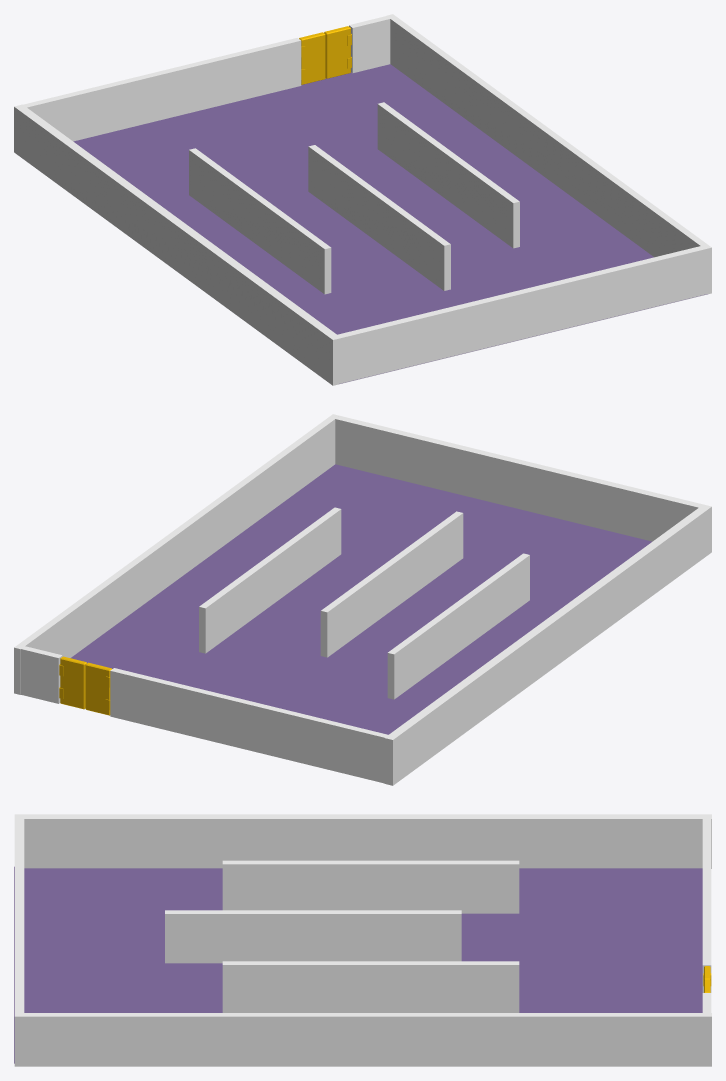
The model's file is maps_71.fbx.
3 views of the same model, one above another, from view 1: azimuth 30°, elevation 25°; view 2: azimuth 150°, elevation 25°; view 3: azimuth 270°, elevation 25° (orthographic). The views are drawn at different scales.
Visible parts, largest first — view 1: wall_01_08_geo, wall_01_05_geo, wall_01_07_geo, wall_01_06_geo, wall_01_09_geo, wall_01_11_geo21, wall_01_11_geo23, wall_01_11_geo22, wall_01_09_geo1, polySurface161, polySurface165; view 2: wall_01_08_geo, wall_01_07_geo, wall_01_05_geo, wall_01_06_geo, wall_01_09_geo, wall_01_11_geo22, wall_01_11_geo21, wall_01_11_geo23, wall_01_09_geo1, polySurface161, polySurface165; view 3: wall_01_08_geo, wall_01_06_geo, wall_01_07_geo, wall_01_11_geo22, wall_01_11_geo23, wall_01_11_geo21, wall_01_05_geo, wall_01_09_geo.
Boxes of the visible parts, x1,y1,x2,y2 form: wall_01_08_geo: (73, 64, 707, 383); wall_01_05_geo: (337, 246, 705, 383); wall_01_07_geo: (14, 104, 341, 385); wall_01_06_geo: (386, 14, 711, 294); wall_01_09_geo: (23, 38, 301, 141); wall_01_11_geo21: (189, 148, 331, 294); wall_01_11_geo23: (377, 102, 519, 248); wall_01_11_geo22: (308, 145, 450, 290); wall_01_09_geo1: (349, 16, 390, 72); polySurface161: (324, 26, 351, 78); polySurface165: (299, 32, 325, 84); wall_01_08_geo: (70, 464, 651, 734); wall_01_07_geo: (384, 504, 711, 785); wall_01_05_geo: (335, 416, 703, 541); wall_01_06_geo: (14, 414, 339, 694); wall_01_09_geo: (110, 668, 388, 783); wall_01_11_geo22: (320, 511, 463, 657); wall_01_11_geo21: (387, 553, 529, 699); wall_01_11_geo23: (199, 507, 341, 653); wall_01_09_geo1: (21, 646, 62, 703); polySurface161: (59, 656, 86, 709); polySurface165: (85, 662, 111, 715); wall_01_08_geo: (14, 866, 702, 1063); wall_01_06_geo: (14, 1013, 711, 1066); wall_01_07_geo: (14, 814, 711, 868); wall_01_11_geo22: (165, 910, 461, 963); wall_01_11_geo23: (222, 961, 519, 1012); wall_01_11_geo21: (222, 860, 519, 913); wall_01_05_geo: (14, 818, 24, 1012); wall_01_09_geo: (702, 819, 711, 992).
Bounding box in the file's own units: 76.85 × 8.89 × 112.
2 materials, 2 textured.
